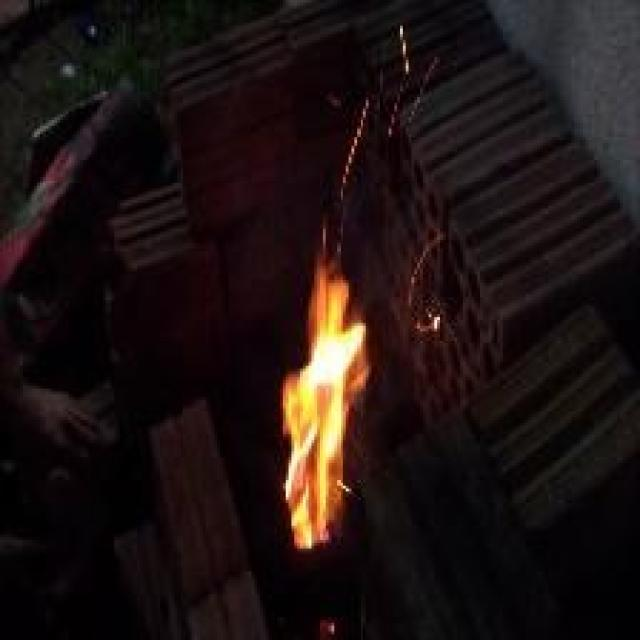fire: (228, 242, 426, 567)
